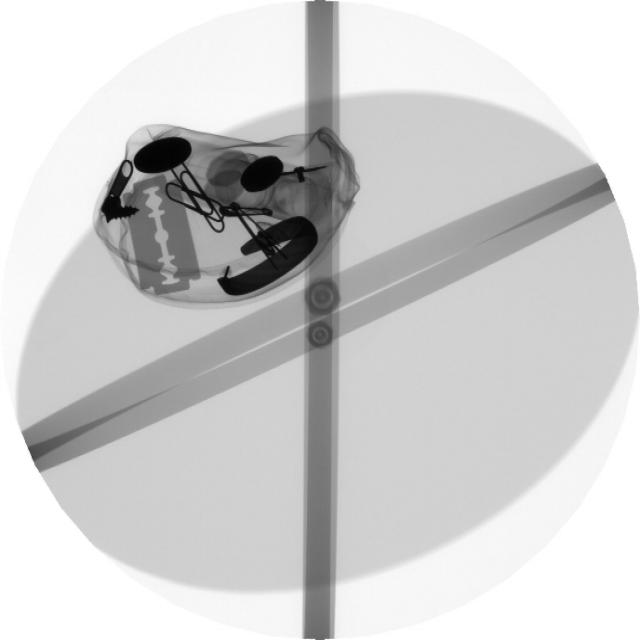BLADE: (120, 181, 209, 304)
